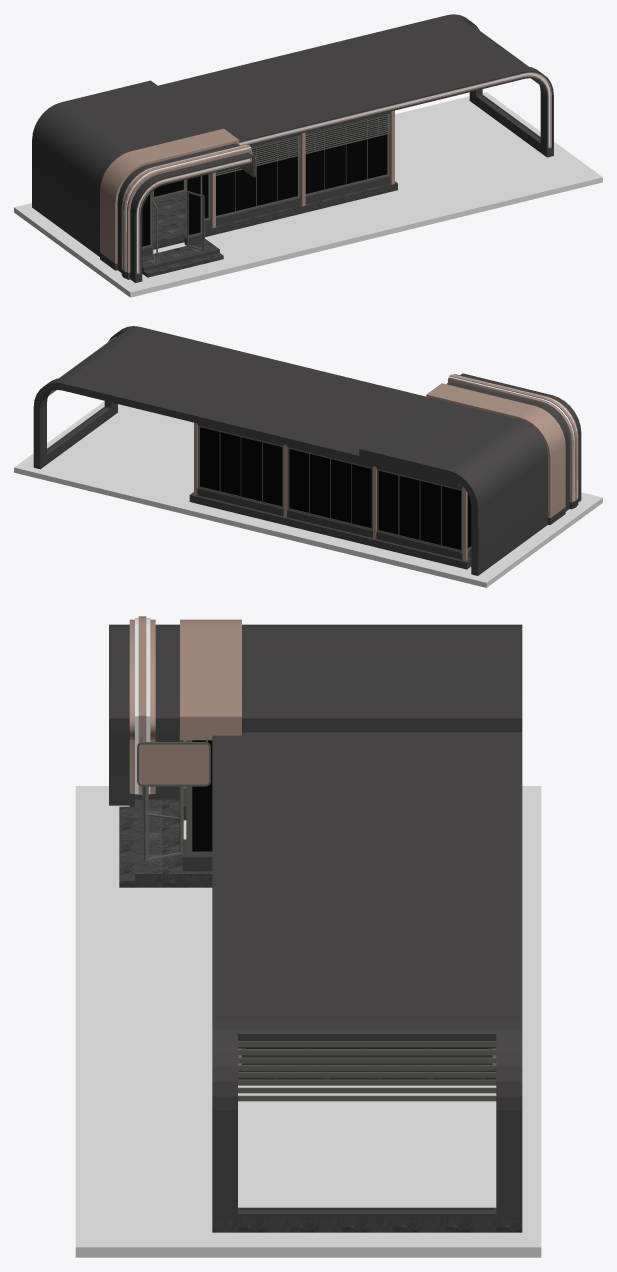
The model's file is Coffee_house 1.fbx.
3 views of the same model, one above another, from view 1: azimuth 30°, elevation 25°; view 2: azimuth 150°, elevation 25°; view 3: azimuth 270°, elevation 25° (orthographic). The views are drawn at different scales.
Parts seen in each view (by area): view 1: coffee house00, coffee house07, coffee house06, coffee house27, coffee house05, coffee house09, coffee house04.001, coffee house03, coffee house26, coffee house08, coffee house15, coffee house02 (+8 smaller); view 2: coffee house07, coffee house00, coffee house06, coffee house27, coffee house09, coffee house05, coffee house03, coffee house04.001, coffee house02, coffee house08, coffee house22, coffee house04.002 (+4 smaller); view 3: coffee house07, coffee house00, coffee house06, coffee house18, coffee house09, coffee house05, coffee house14, coffee house21, coffee house03, coffee house04.001, coffee house08, coffee house27 (+2 smaller).
Part boxes in pixels (<box>): coffee house00: <box>14,92,602,297</box>; coffee house07: <box>158,14,553,150</box>; coffee house06: <box>32,80,253,276</box>; coffee house27: <box>142,115,387,246</box>; coffee house05: <box>142,181,397,277</box>; coffee house09: <box>100,128,239,263</box>; coffee house04.001: <box>142,113,388,262</box>; coffee house03: <box>142,176,389,256</box>; coffee house26: <box>305,114,390,153</box>; coffee house08: <box>121,144,251,272</box>; coffee house15: <box>239,72,551,148</box>; coffee house02: <box>210,110,394,228</box>; coffee house07: <box>33,326,460,486</box>; coffee house00: <box>14,401,602,587</box>; coffee house06: <box>359,373,581,568</box>; coffee house27: <box>200,427,471,549</box>; coffee house09: <box>426,383,565,518</box>; coffee house05: <box>189,492,471,569</box>; coffee house03: <box>197,488,471,559</box>; coffee house04.001: <box>198,425,471,552</box>; coffee house02: <box>194,422,467,560</box>; coffee house08: <box>448,374,578,502</box>; coffee house22: <box>471,494,581,575</box>; coffee house04.002: <box>219,431,441,545</box>; coffee house07: <box>212,732,522,1218</box>; coffee house00: <box>75,786,541,1257</box>; coffee house06: <box>109,624,522,791</box>; coffee house18: <box>238,1041,496,1101</box>; coffee house09: <box>180,619,241,788</box>; coffee house05: <box>119,799,496,1079</box>; coffee house14: <box>212,1218,522,1232</box>; coffee house21: <box>139,744,208,784</box>; coffee house03: <box>182,788,492,1064</box>; coffee house04.001: <box>142,733,492,1049</box>; coffee house08: <box>129,619,155,793</box>; coffee house27: <box>192,740,488,1048</box>.
Bounding box in the file's own units: 2113 × 458 × 902.
9 materials, 1 textured.
